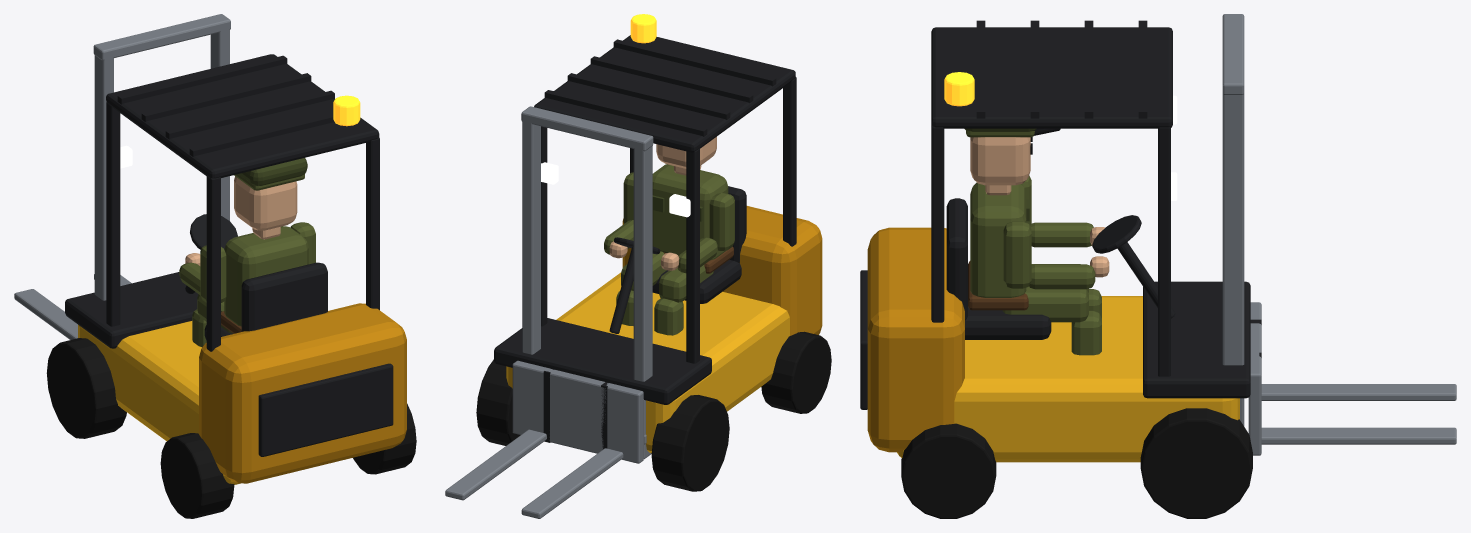
File: forklift.glb
3 views of the same model, side by side, from view 1: azimuth 30°, elevation 25°; view 2: azimuth 150°, elevation 25°; view 3: azimuth 270°, elevation 25° (orthographic). The views are drawn at different scales.
Parts seen in each view (by area): view 1: Forklift, Soldier, Forks; view 2: Forklift, Forks, Soldier; view 3: Forklift, Soldier, Forks.
Boxes of the visible parts, x1=… form: Forklift: x1=46, y1=14, x2=416, y2=518; Soldier: x1=179, y1=158, x2=315, y2=346; Forks: x1=14, y1=274, x2=131, y2=339; Forklift: x1=476, y1=14, x2=831, y2=491; Forks: x1=445, y1=360, x2=643, y2=518; Soldier: x1=604, y1=136, x2=734, y2=335; Forklift: x1=860, y1=14, x2=1252, y2=518; Soldier: x1=964, y1=128, x2=1109, y2=355; Forks: x1=1248, y1=302, x2=1456, y2=455.
Size of the model in its own units: 1.3 by 2.14 by 2.76.
